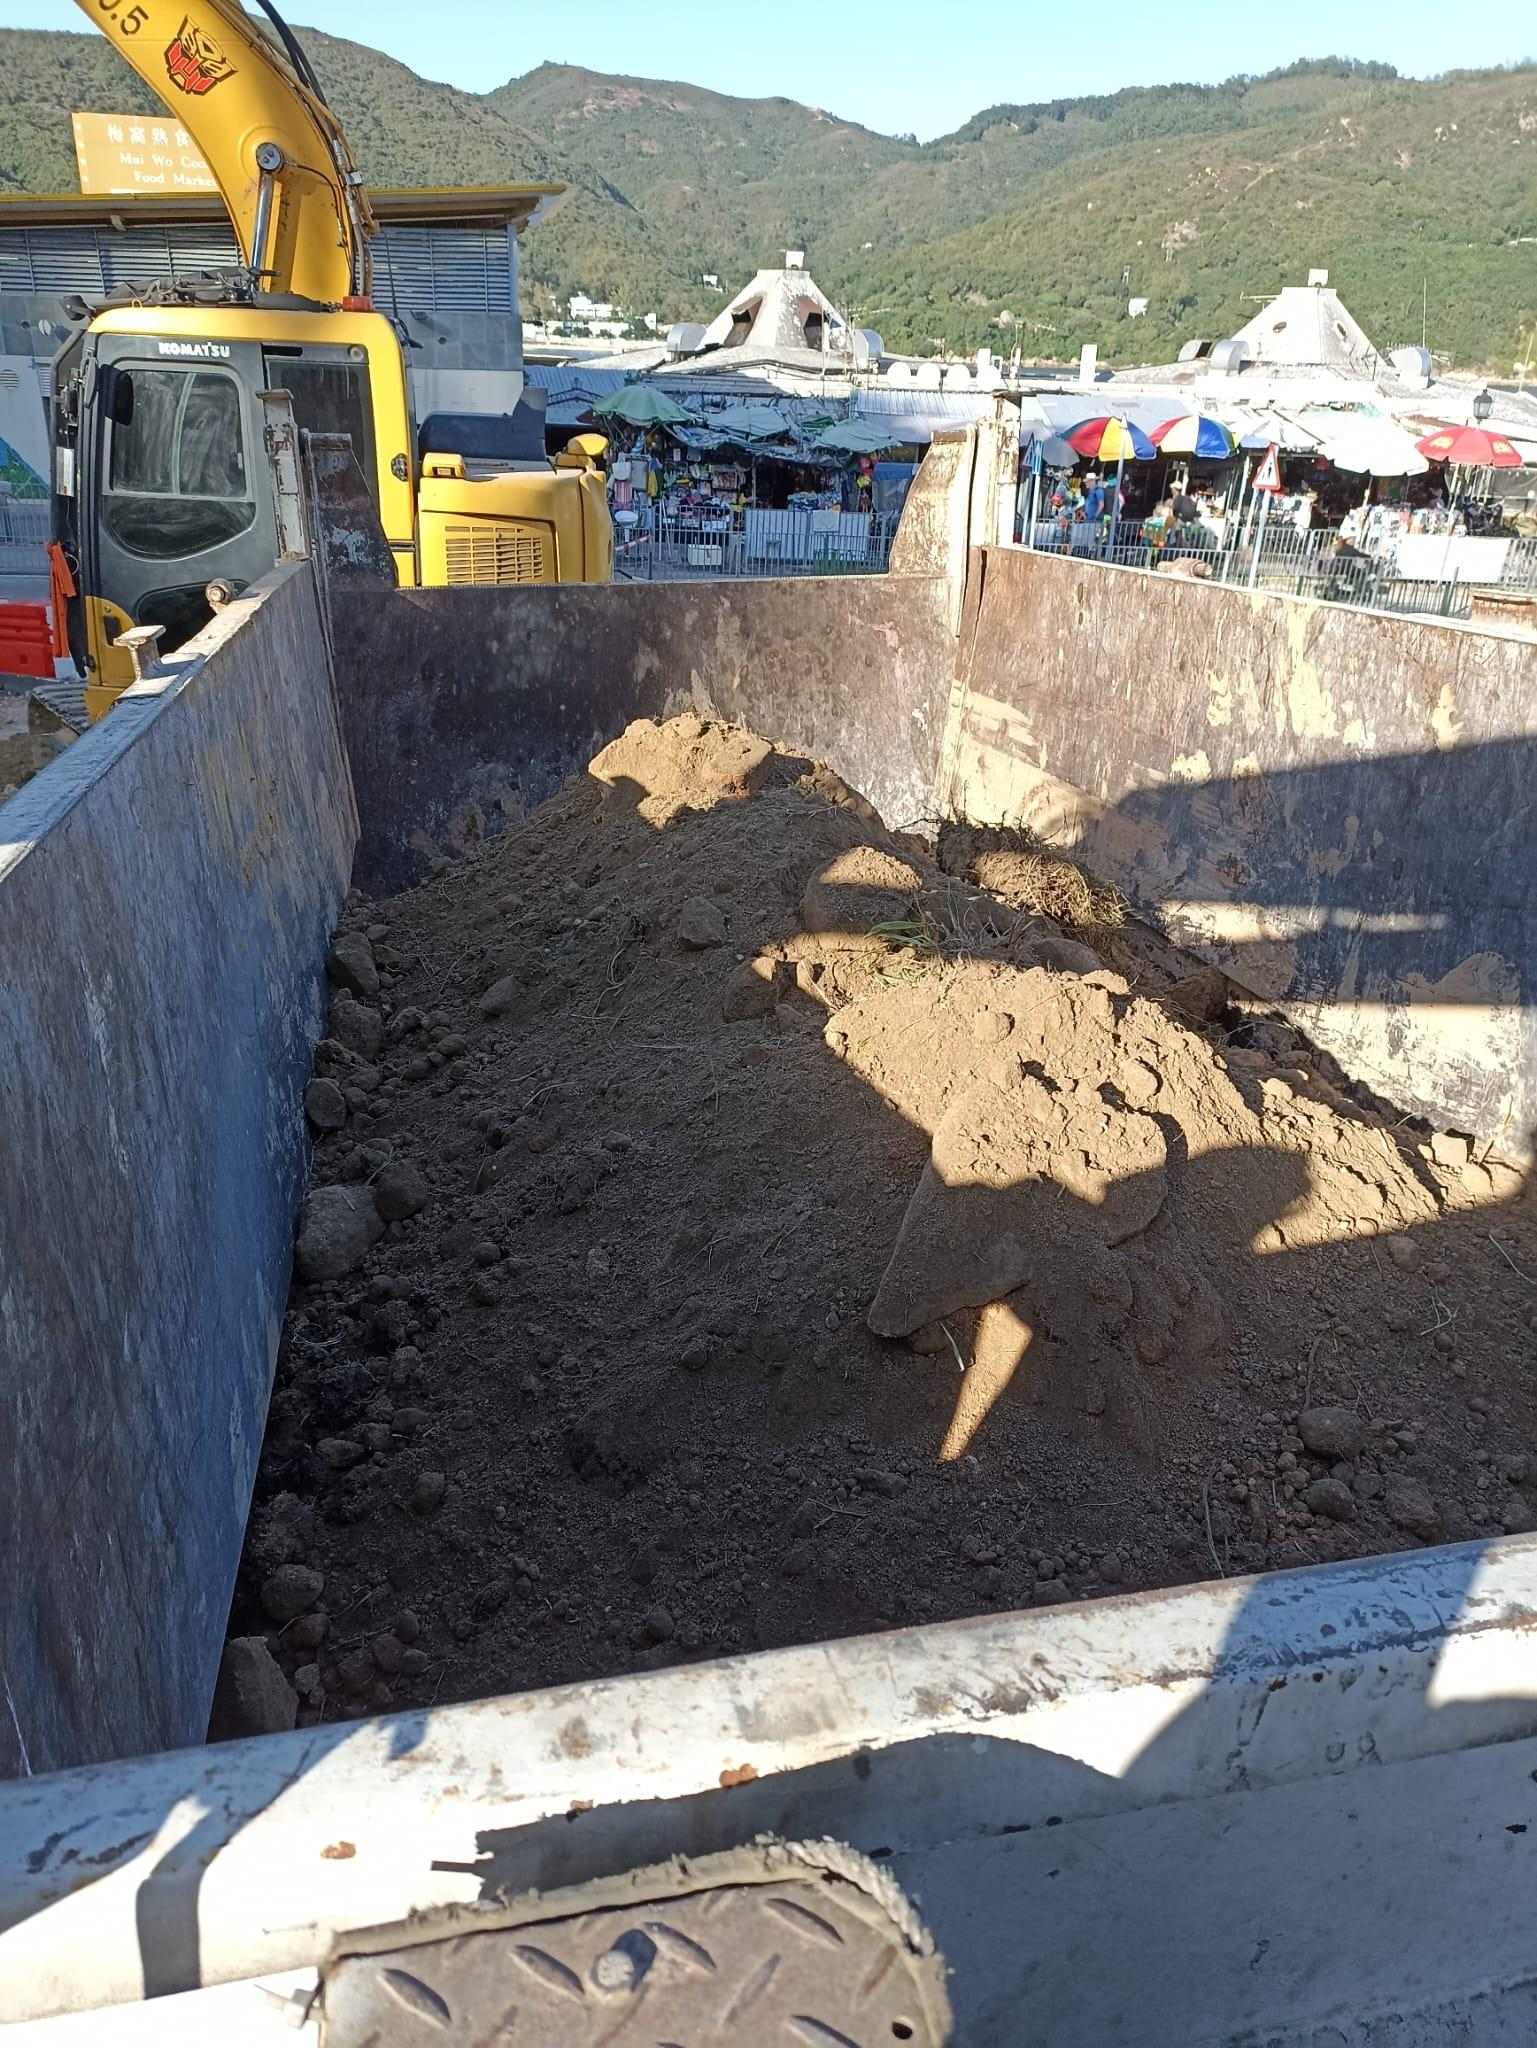dirt: (224, 708, 1534, 1733)
stone: (313, 1832, 954, 2045), (294, 1181, 383, 1280), (1296, 1402, 1364, 1457), (673, 896, 727, 947), (1298, 1475, 1358, 1519), (304, 1076, 349, 1130)
